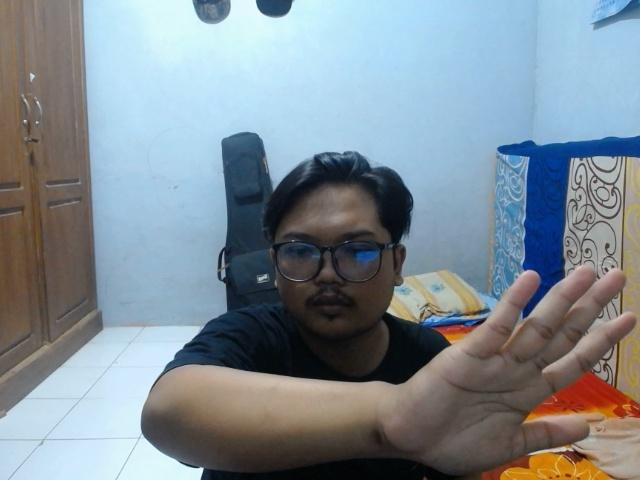Release: (382, 258, 640, 473)
